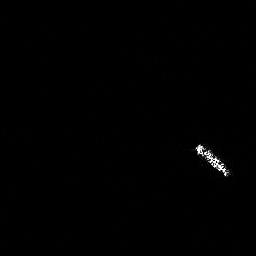ship: (194, 143, 231, 179)
